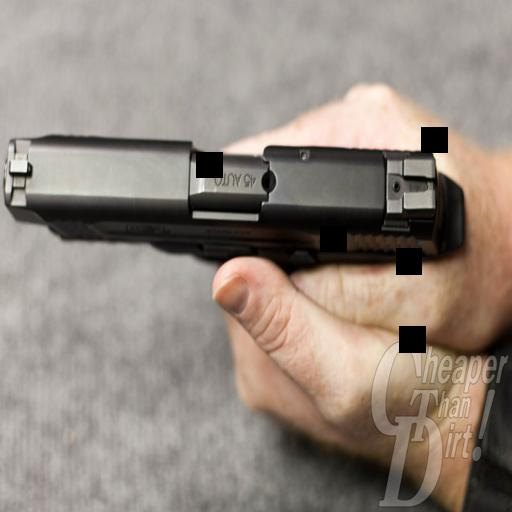Handgun: (3, 112, 447, 289)
